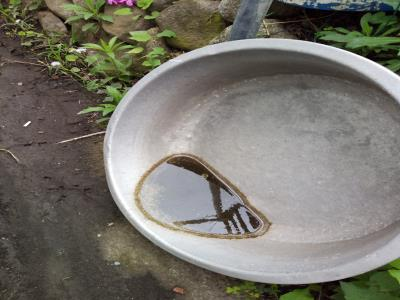bowl: (101, 36, 394, 287)
